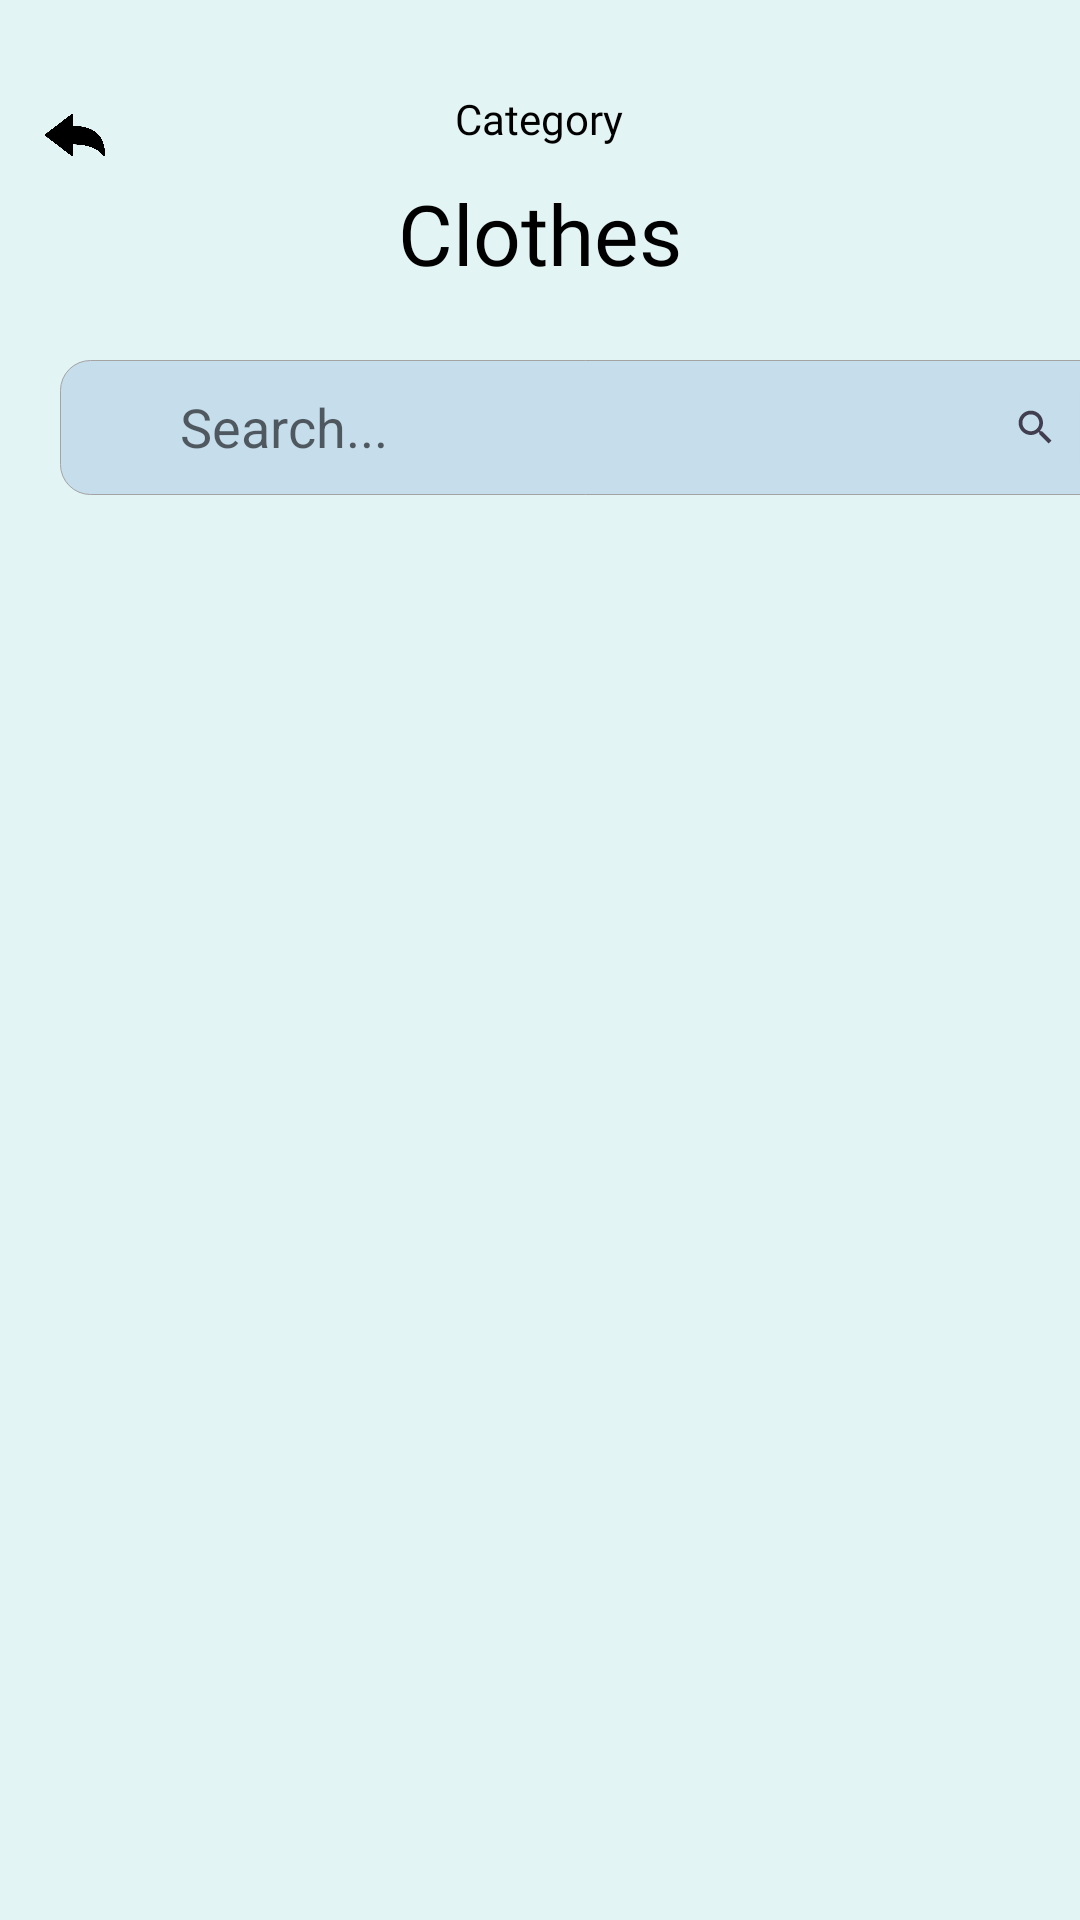

Icon click points for this 1080px x 1920px phone screenshot, format (x,y):
back: (75,135)
